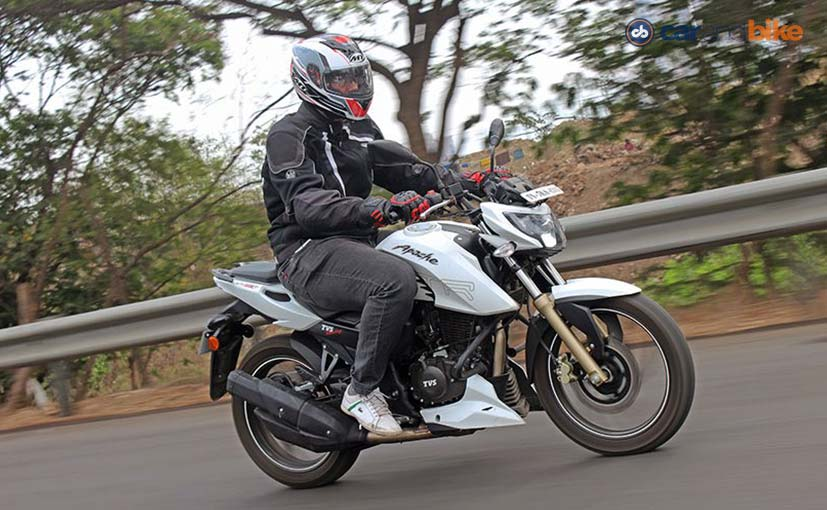helmet: (288, 35, 377, 122)
